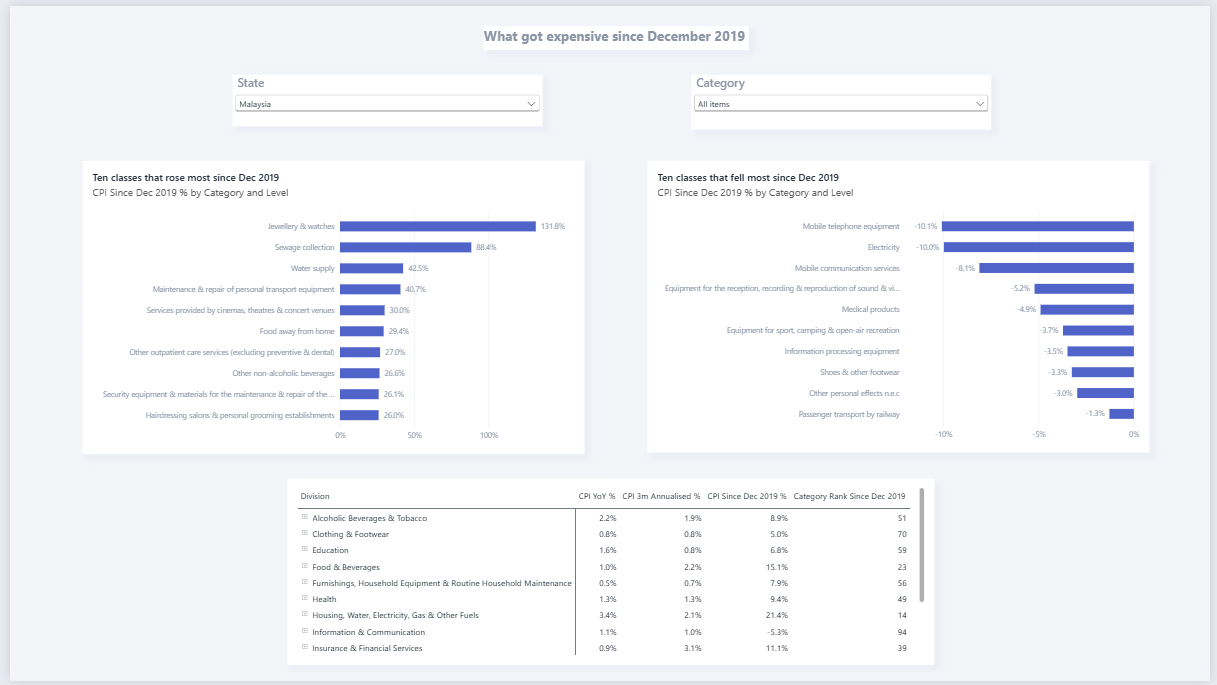

Layout of this report page (visuals, bound fields, positions):
{"tool":"powerbi","page":{"name":"What got expensive since 2019","canvas":[1920,1080],"ordinal":2},"visuals":[{"type":"slicer","fields":{"Values":["DimGeography.State"]},"box":[356.9,110.6,496,82],"z":0},{"type":"slicer","fields":{"Values":["DimCategory.Category"]},"box":[1090.4,110.6,480,88],"z":1000},{"type":"clusteredBarChart","title":"Ten classes that rose most since Dec 2019","fields":{"Category":["DimCategory.Category"],"Series":["DimCategory.Level"],"Y":["Measures (2).CPI Since Dec 2019 %"]},"box":[115.2,248.8,803.2,468.9],"z":2000},{"type":"clusteredBarChart","title":"Ten classes that fell most since Dec 2019","fields":{"Category":["DimCategory.Category"],"Series":["DimCategory.Level"],"Y":["Measures (2).CPI Since Dec 2019 %"]},"box":[1020.3,248.8,803.2,466.7],"z":3000},{"type":"pivotTable","fields":{"Rows":["DimCategory.Division","DimCategory.Group","DimCategory.Class"],"Values":["Measures (2).CPI YoY %","Measures (2).CPI 3m Annualised %","Measures (2).CPI Since Dec 2019 %","Measures (2).Category Rank Since Dec 2019"]},"box":[443.3,756.7,1035,298.3],"z":4000},{"type":"textbox","box":[758,32,424,38],"z":5000}]}

Visuals, with their boxes in screenshot pixels (x1, y1, x2, y2), scaled from the page's 1920x1080 canvas onto the 1217x685 screenshot:
slicer - DimGeography.State: [226,70,541,122]
slicer - DimCategory.Category: [691,70,995,126]
"Ten classes that rose most since Dec 2019" clusteredBarChart: [73,158,582,455]
"Ten classes that fell most since Dec 2019" clusteredBarChart: [647,158,1156,454]
pivotTable - DimCategory.Division x DimCategory.Group: [281,480,937,669]
textbox: [480,20,749,44]
